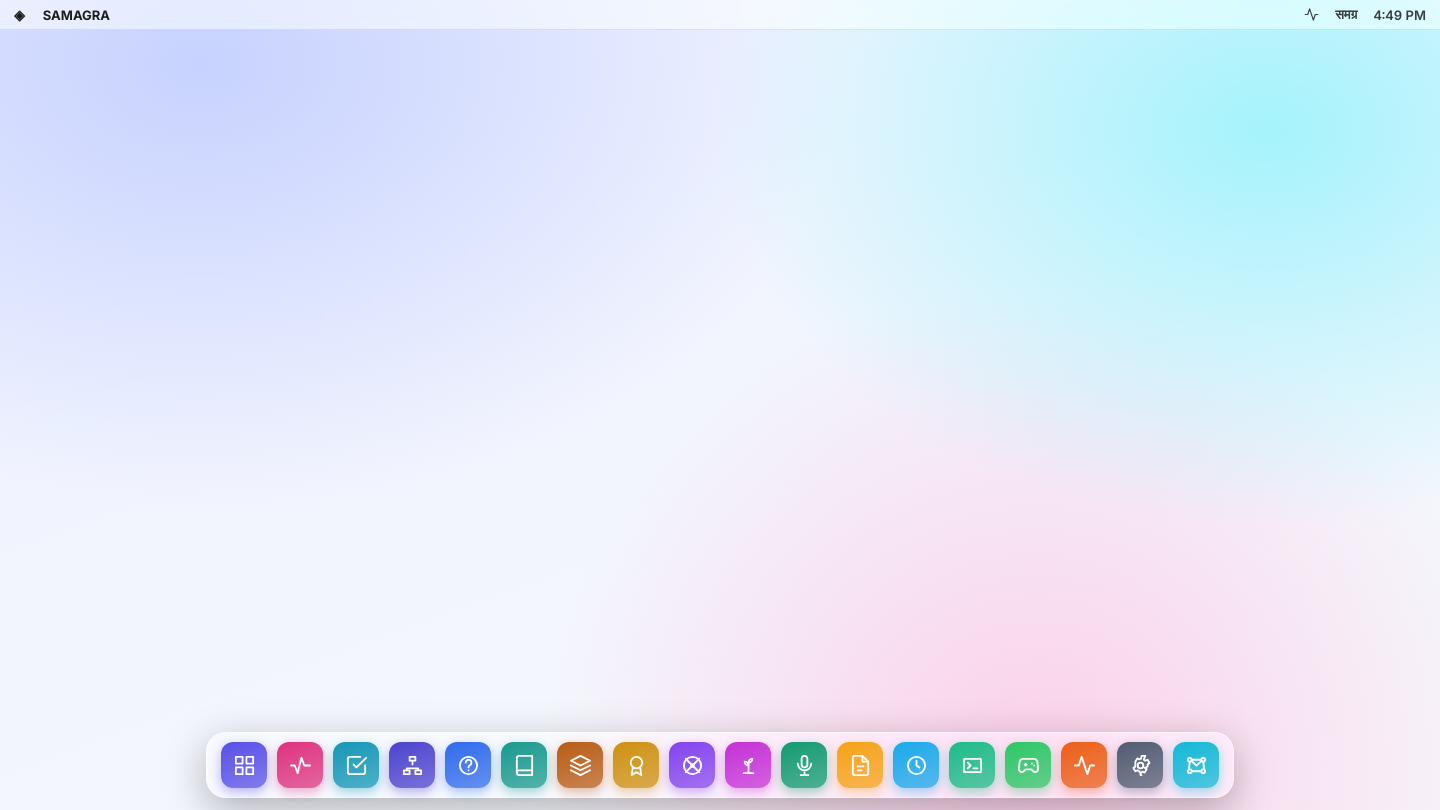
it: App (right-click context menus — all themes) › opens the desktop menu on a bare-desktop right-click (aqua)
Right-click the element with id "samagra-os-shell".
right_click(720, 405)  # box [0,0,1439,809]
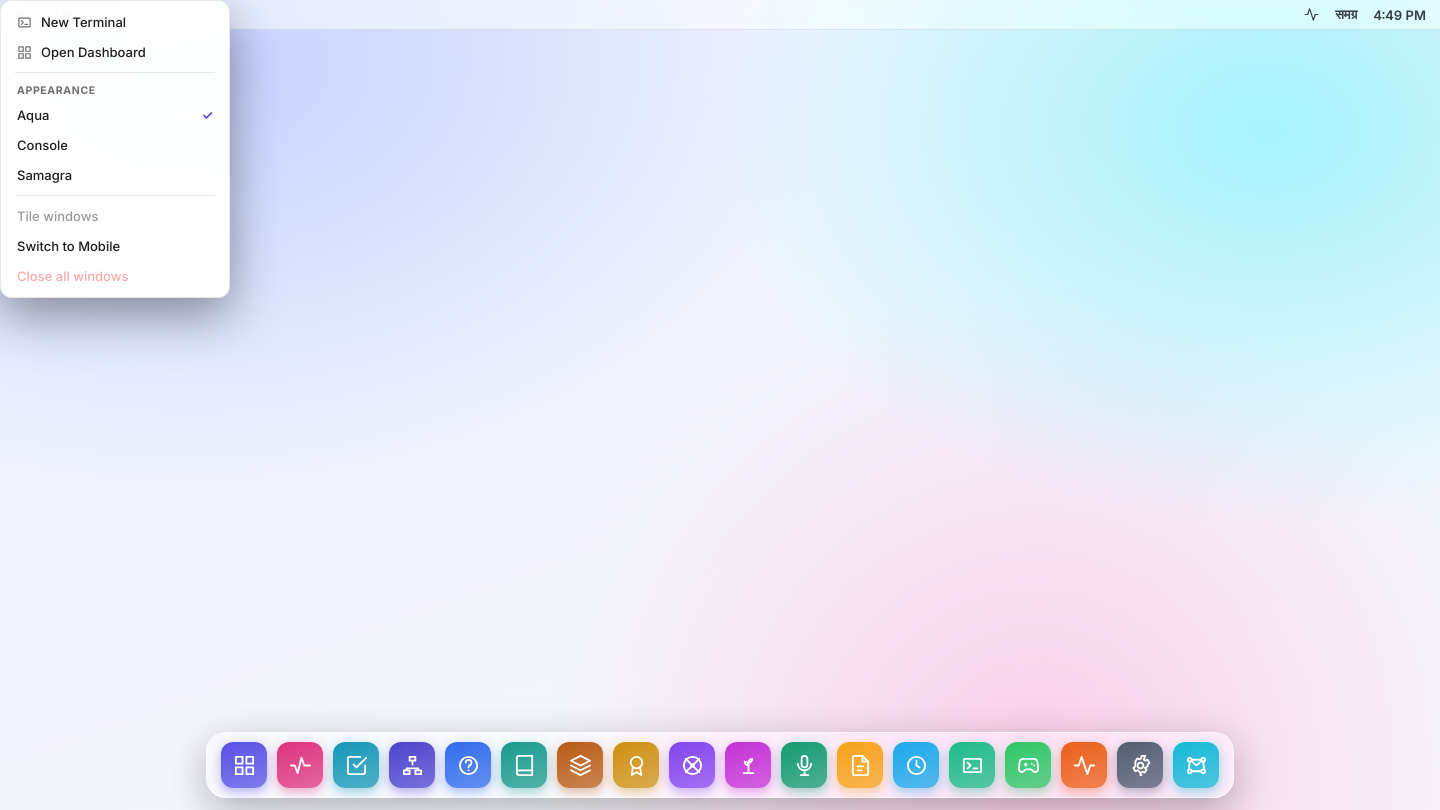
Check: the text "New Terminal" is shown, box [41,14,126,30]
Check: the text "Open Dashboard" is shown, box [41,44,146,60]
Check: the text "Appearance" is shown, box [17,84,96,97]
